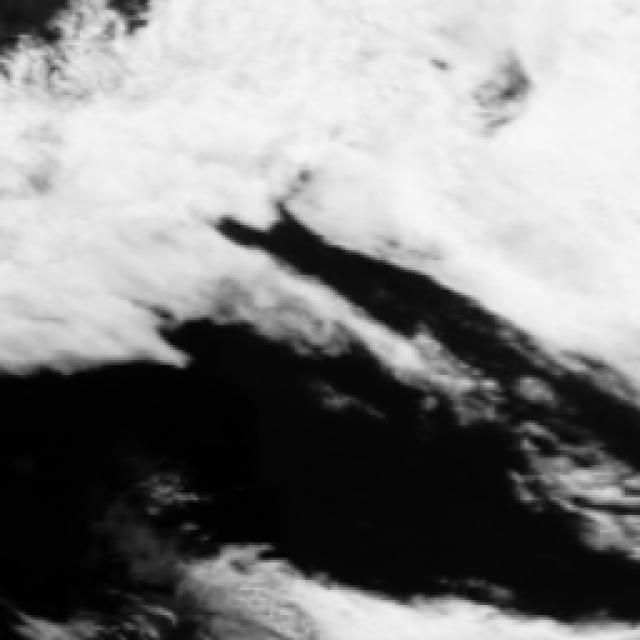CB: (188, 4, 446, 162), (57, 131, 194, 290), (529, 103, 637, 293)
